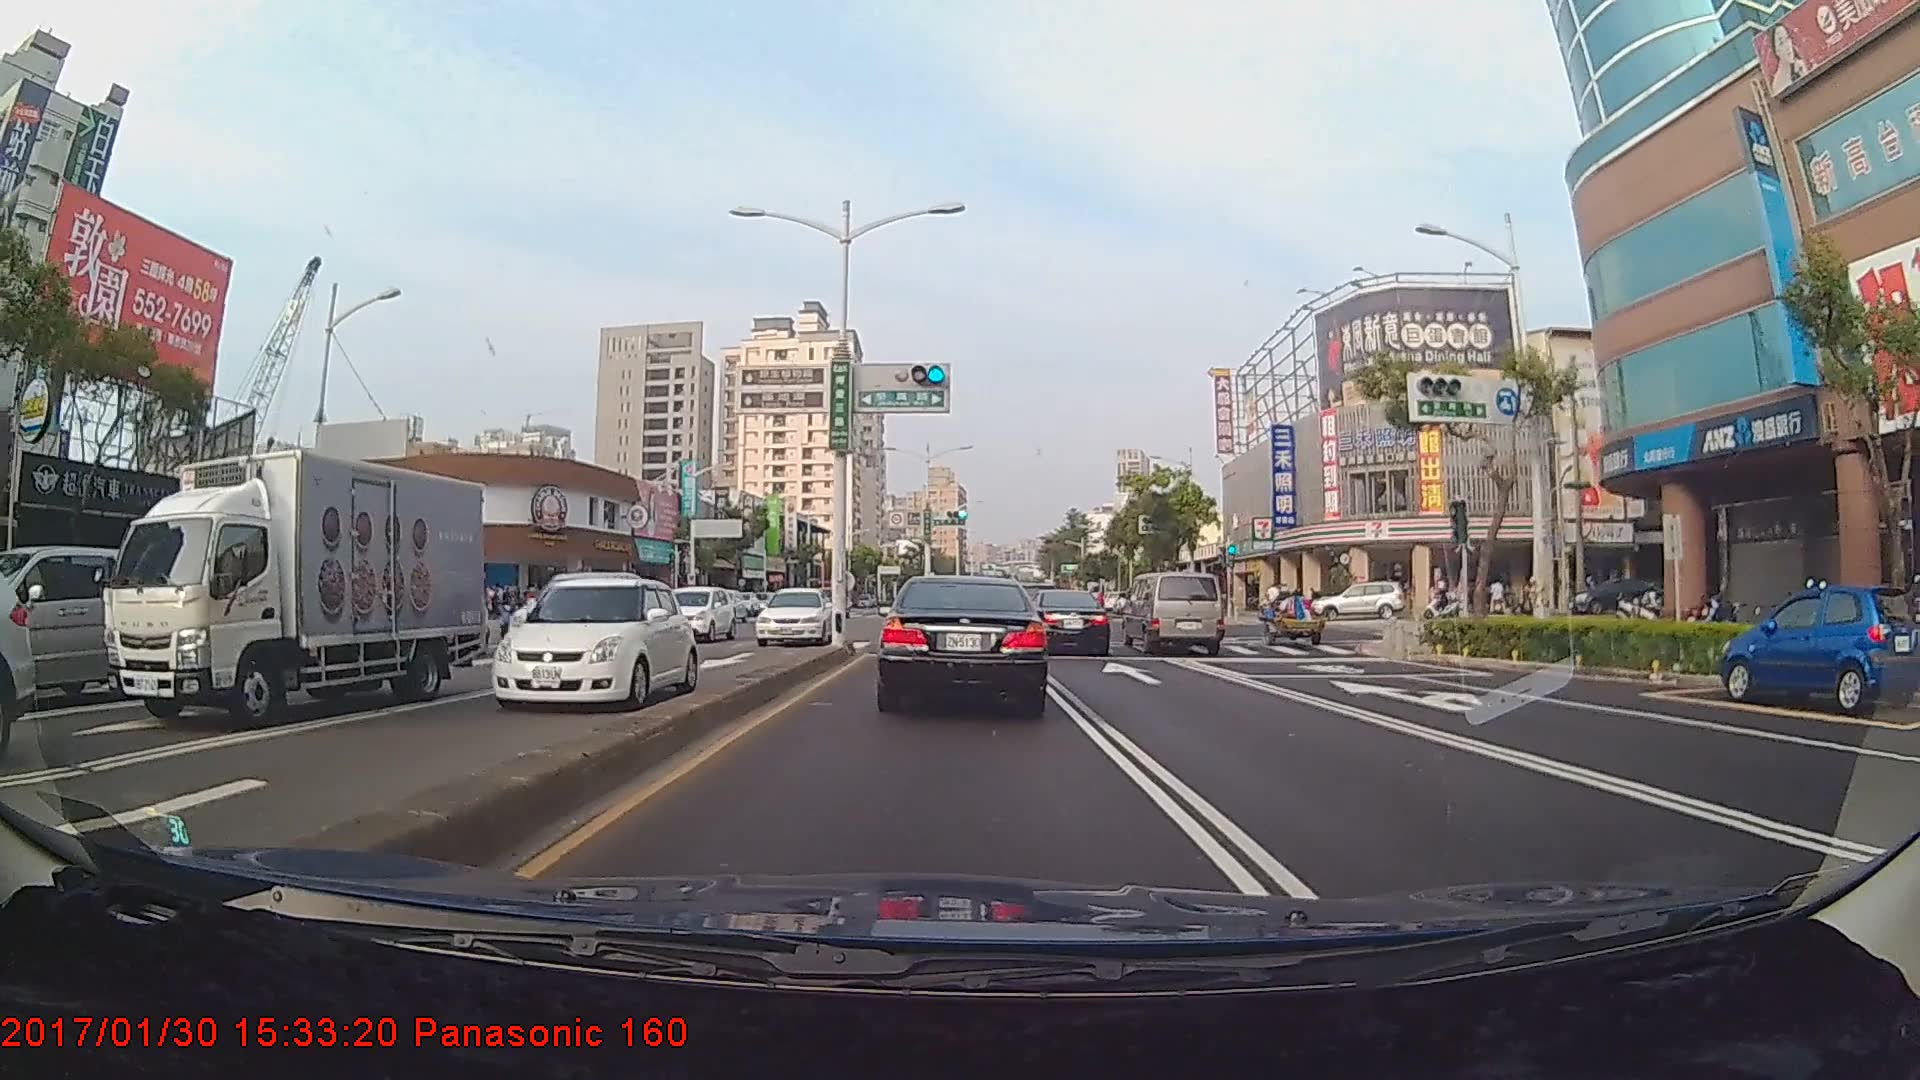vehicle: (102, 440, 484, 731), (489, 575, 698, 711), (1717, 580, 1913, 712), (0, 542, 165, 698), (880, 572, 1048, 713), (498, 566, 649, 667), (0, 514, 44, 777), (1126, 570, 1226, 654), (1023, 589, 1112, 655), (741, 584, 829, 647), (647, 583, 733, 644), (1309, 580, 1408, 621)
